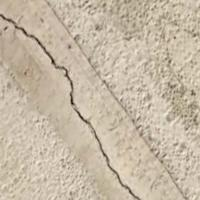crack: (2, 2, 146, 199)
